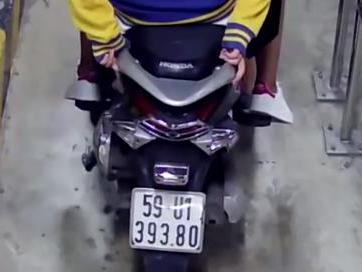num_plate: (129, 186, 207, 255)
